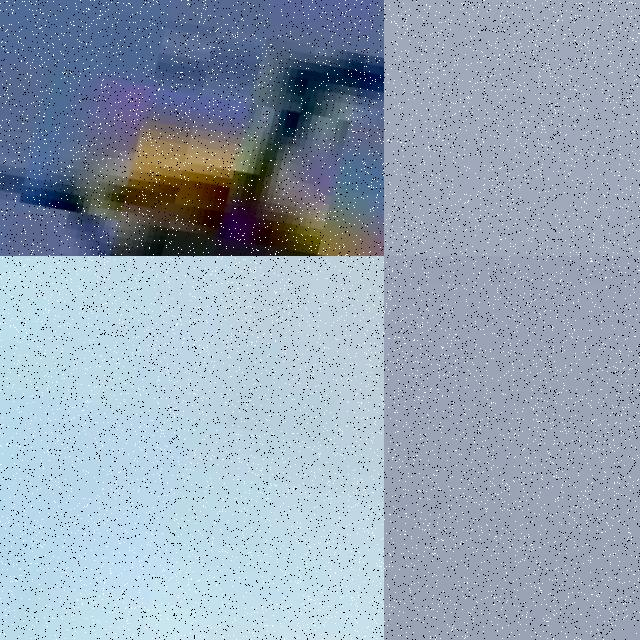0: (0, 0, 384, 256)
drone: (0, 256, 384, 640)
